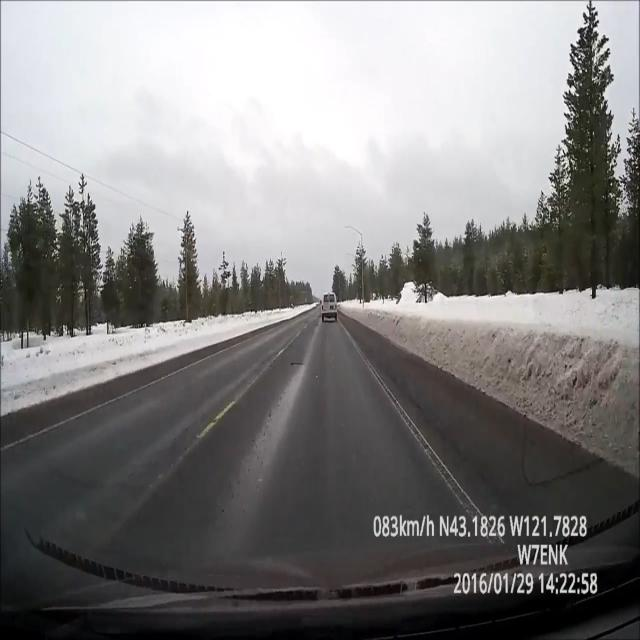Pothole: (286, 348, 308, 376)
